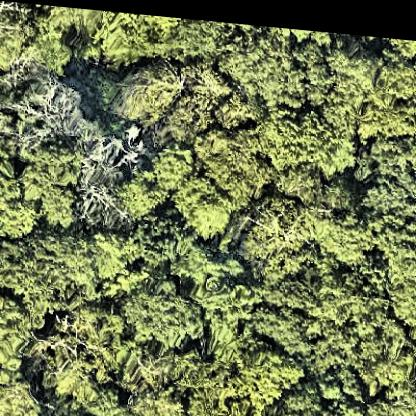tree-top: (38, 297, 126, 404), (307, 274, 398, 375), (0, 228, 108, 313), (166, 135, 244, 237), (182, 116, 263, 210), (332, 41, 414, 132), (245, 188, 320, 281), (262, 98, 348, 174), (80, 7, 196, 63), (223, 23, 308, 99), (176, 234, 258, 311), (346, 131, 416, 212), (20, 140, 82, 230), (125, 274, 203, 345), (116, 54, 186, 132), (0, 78, 75, 149), (9, 6, 81, 76), (235, 333, 301, 404), (76, 126, 132, 201), (208, 361, 284, 416), (182, 64, 250, 120), (369, 45, 416, 125), (310, 197, 374, 254), (0, 0, 49, 74), (384, 219, 416, 331), (268, 382, 368, 416), (116, 161, 168, 221), (0, 294, 32, 384), (370, 363, 416, 416), (193, 382, 264, 416), (134, 208, 178, 262), (134, 379, 194, 416), (0, 370, 47, 416), (382, 29, 416, 51)
